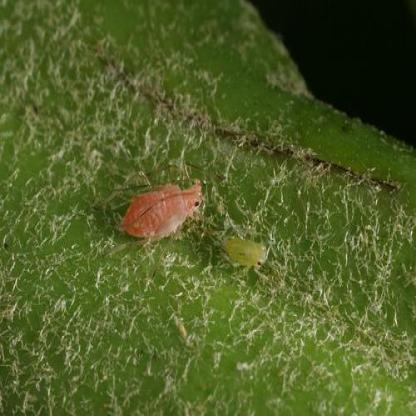aphid: (118, 166, 209, 248), (217, 218, 273, 285)
